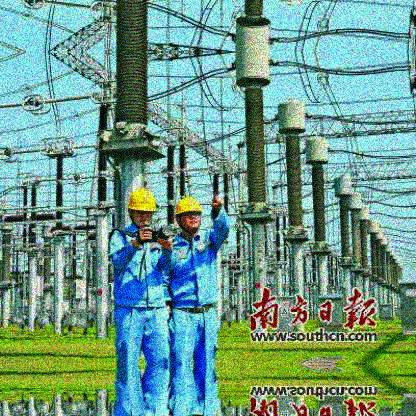helmet: (127, 187, 158, 228), (174, 197, 203, 231)
